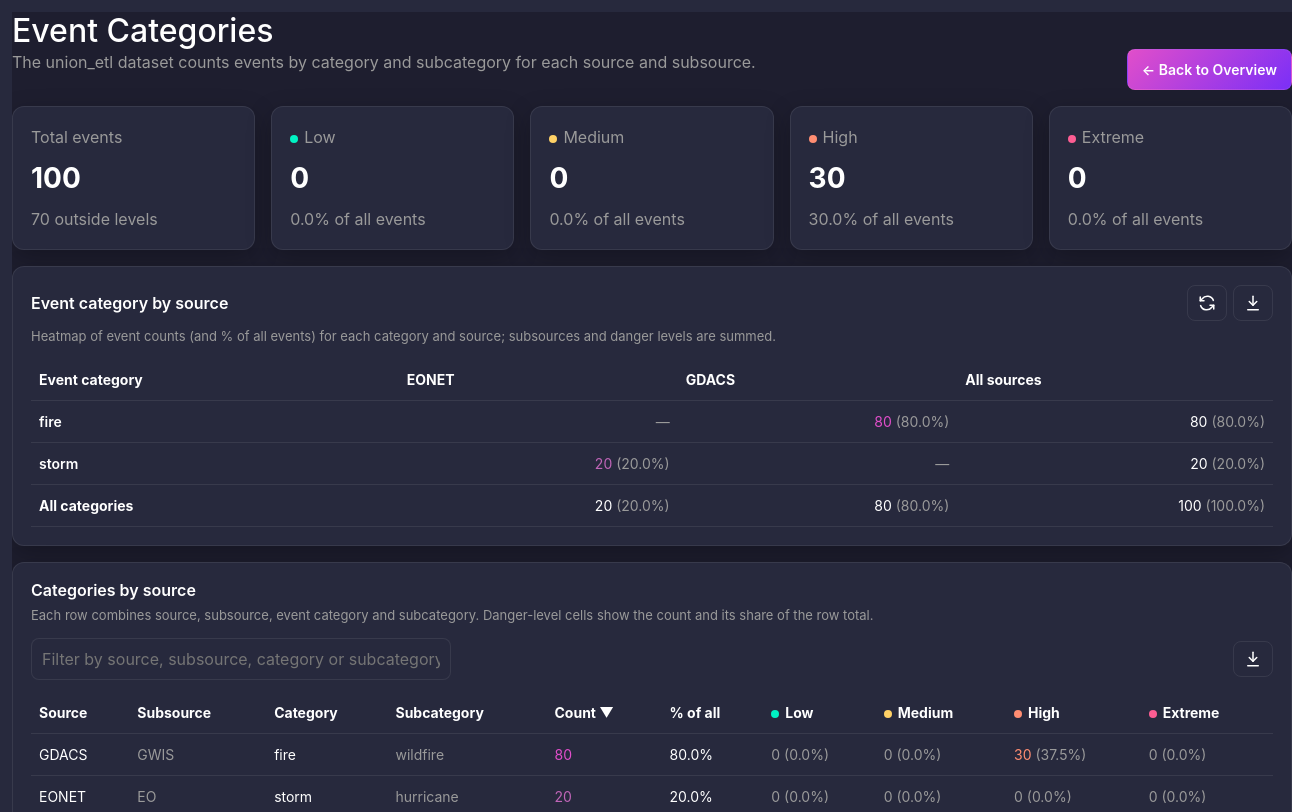
EventCountsView › transposes the category matrix and restores the original layout
Expected: the column heading "Event category" is shown, [31,359,399,400]
Click the button named "Transpose" at point(1207, 303), box [1187,285,1227,321]
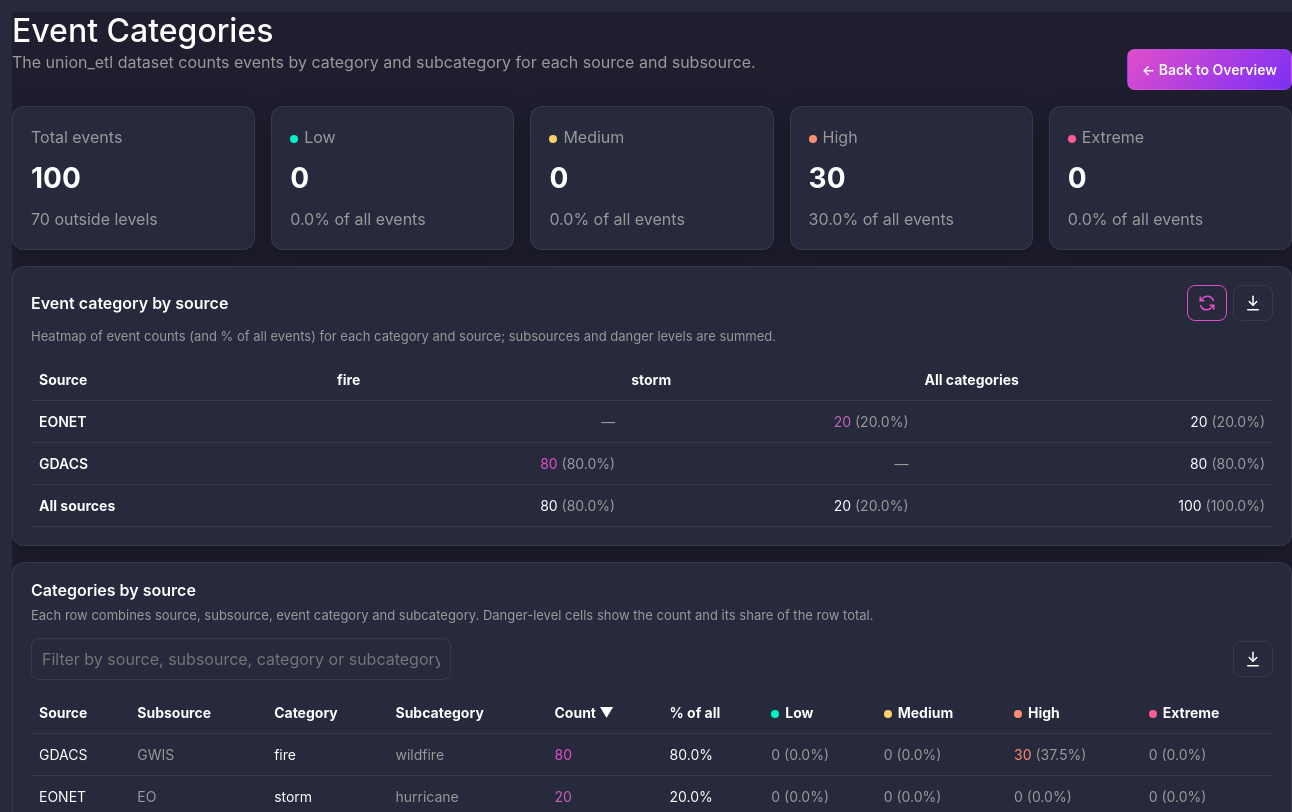
Expected: the column heading "Source" in the row of "All categories" is shown, [31,359,329,400]
Expected: the column heading "All categories" is shown, [916,359,1273,400]
Expected: the column heading "EONET" is shown, [31,400,329,442]
Click the button named "Transpose" at point(1207, 303), box [1187,285,1227,321]
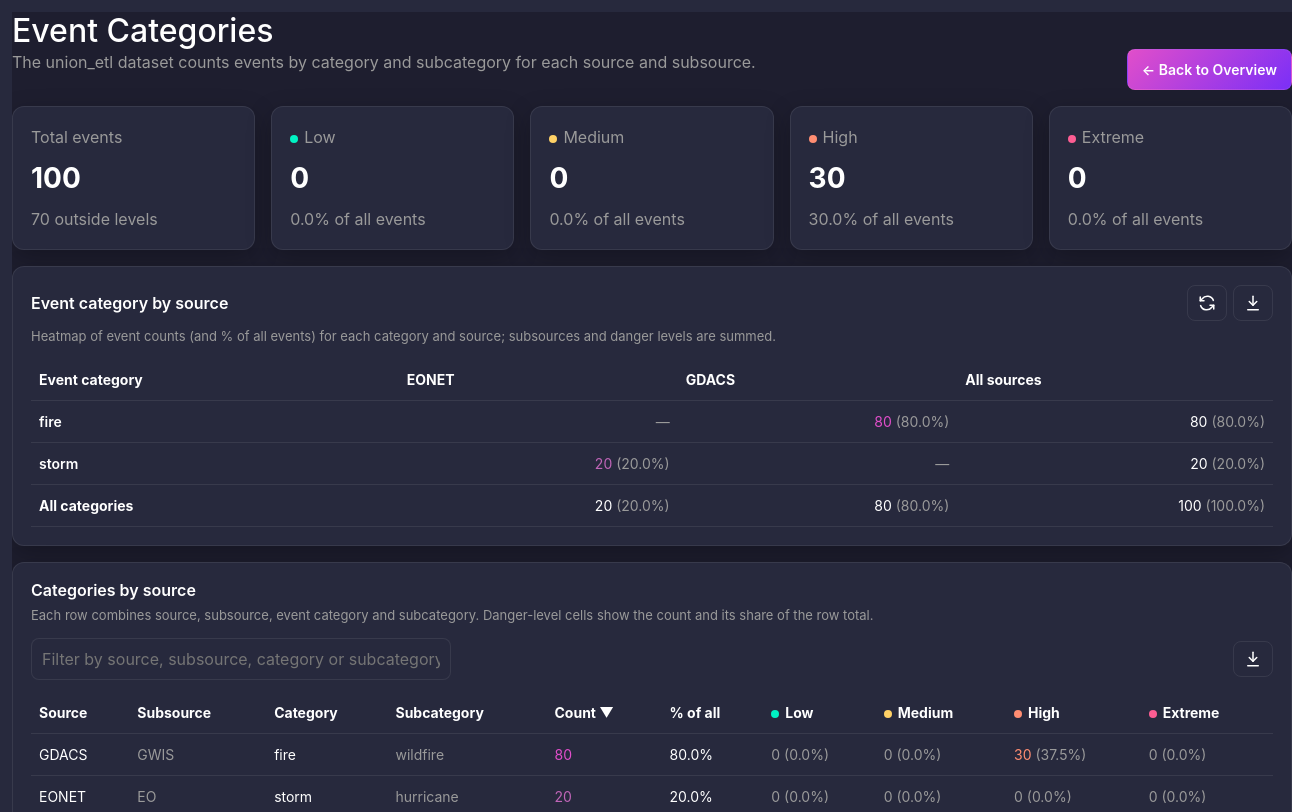
Expected: the column heading "Event category" is shown, [31,359,399,400]
